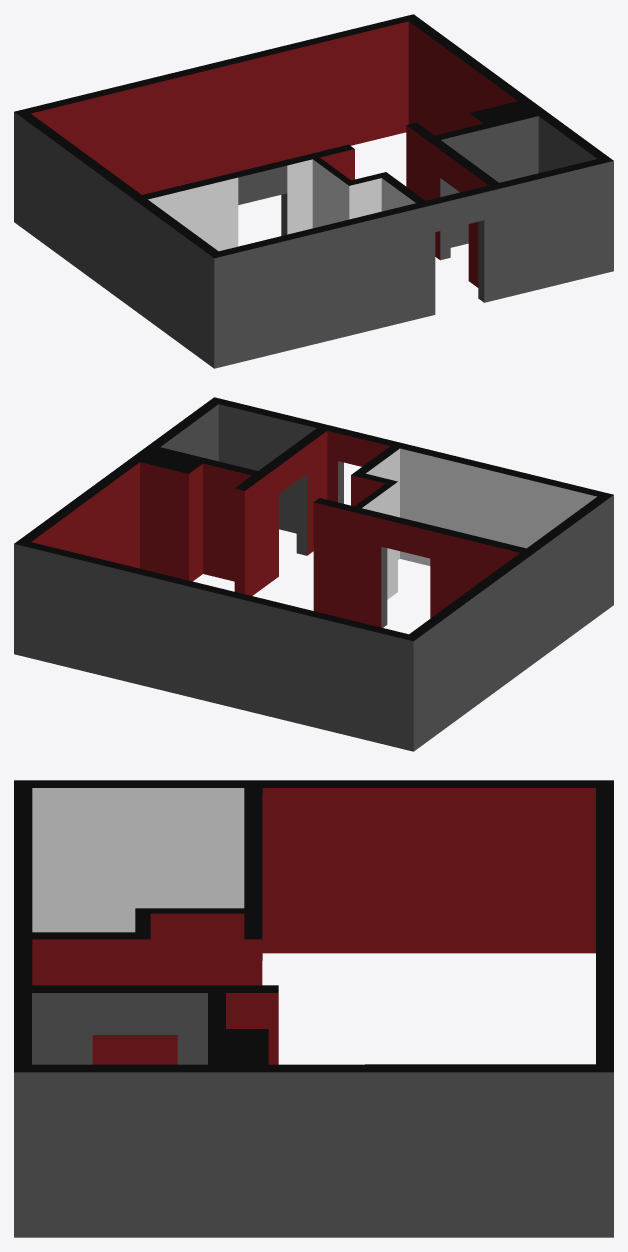
Rendered from WallsHome.fbx.
3 views of the same model, one above another, from view 1: azimuth 30°, elevation 25°; view 2: azimuth 150°, elevation 25°; view 3: azimuth 270°, elevation 25° (orthographic). The views are drawn at different scales.
Visible parts, largest first — view 1: Box128; view 2: Box128; view 3: Box128.
Part boxes in pixels (bbox=[...]): Box128: bbox=[14, 14, 613, 368]; Box128: bbox=[14, 397, 613, 751]; Box128: bbox=[14, 780, 613, 1237].
Bounding box in the file's own units: 1140 × 301 × 990.
